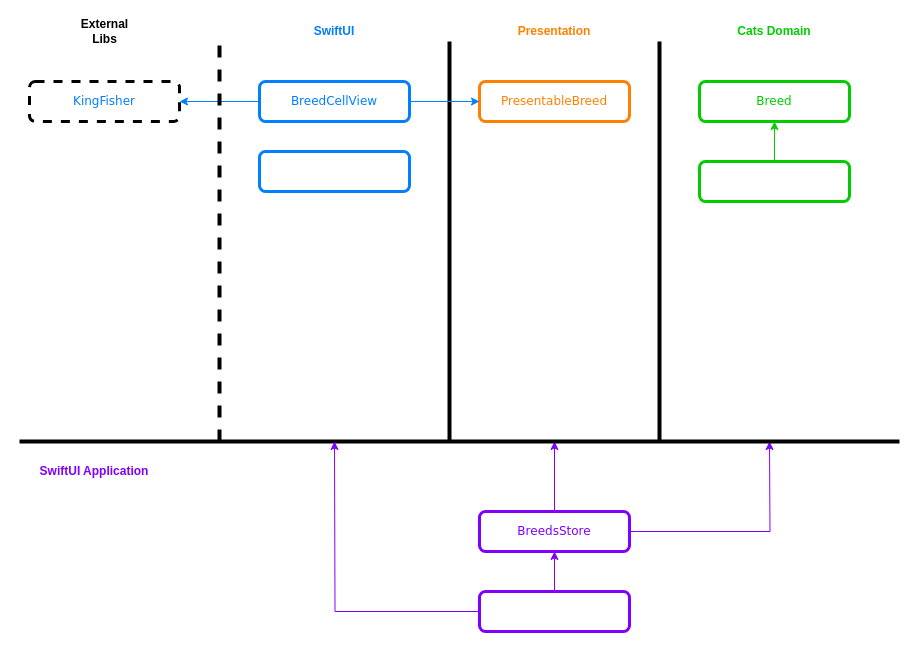
The diagram is 919 pixels wide and 650 high, and some of its shapes have lost their labels. The shapes that lost their labels are listed below. From the top down, each one's centre as x and y in pixels, then its label:
At point 334,171: "BreedsView".
At point 774,181: "BreedsMapper".
At point 554,611: "BreedsUIComposer".
